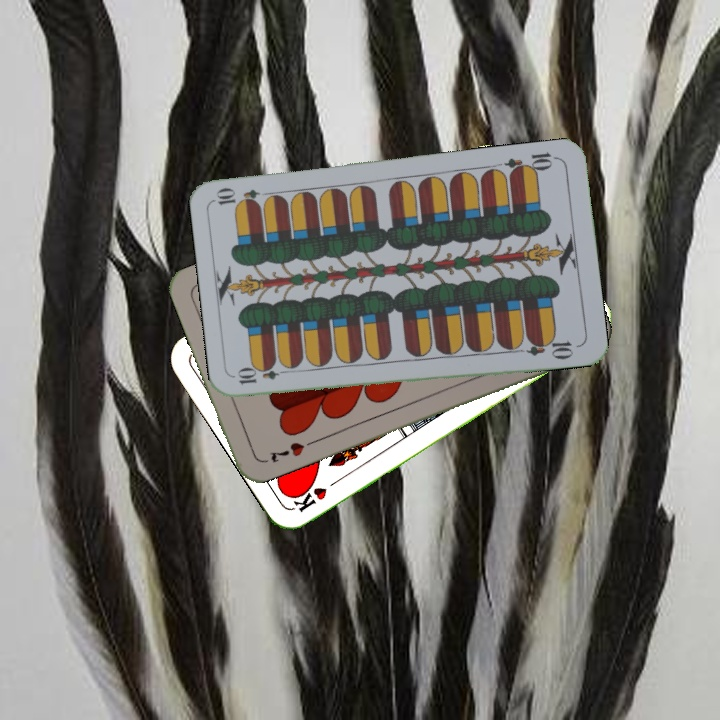E10: (501, 148, 561, 179), (233, 363, 293, 387)
H7: (266, 438, 307, 465)
HK: (290, 474, 344, 515)
